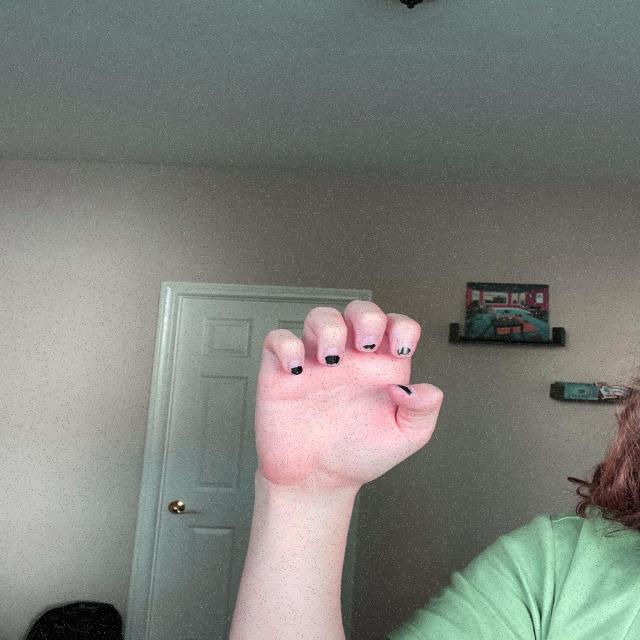E: (251, 298, 449, 488)
